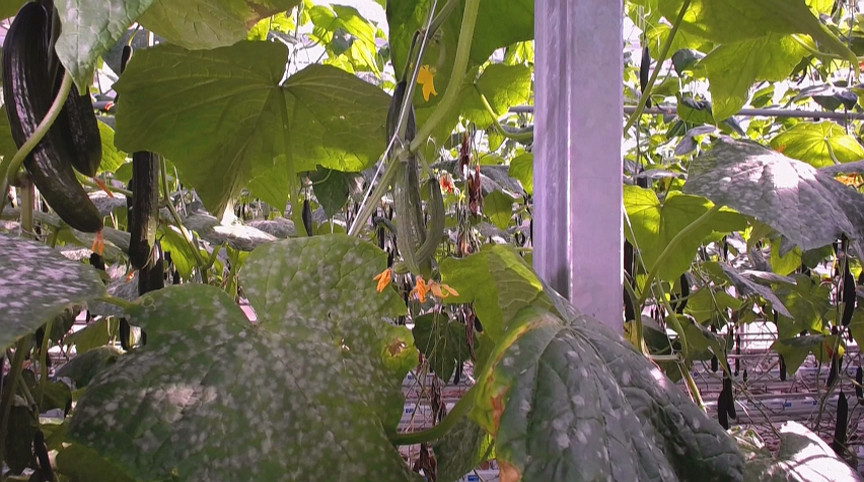cucumber: (2, 3, 103, 234), (55, 69, 101, 178), (129, 151, 162, 273), (394, 163, 420, 279), (840, 274, 856, 328), (640, 41, 651, 111), (837, 394, 849, 454)
